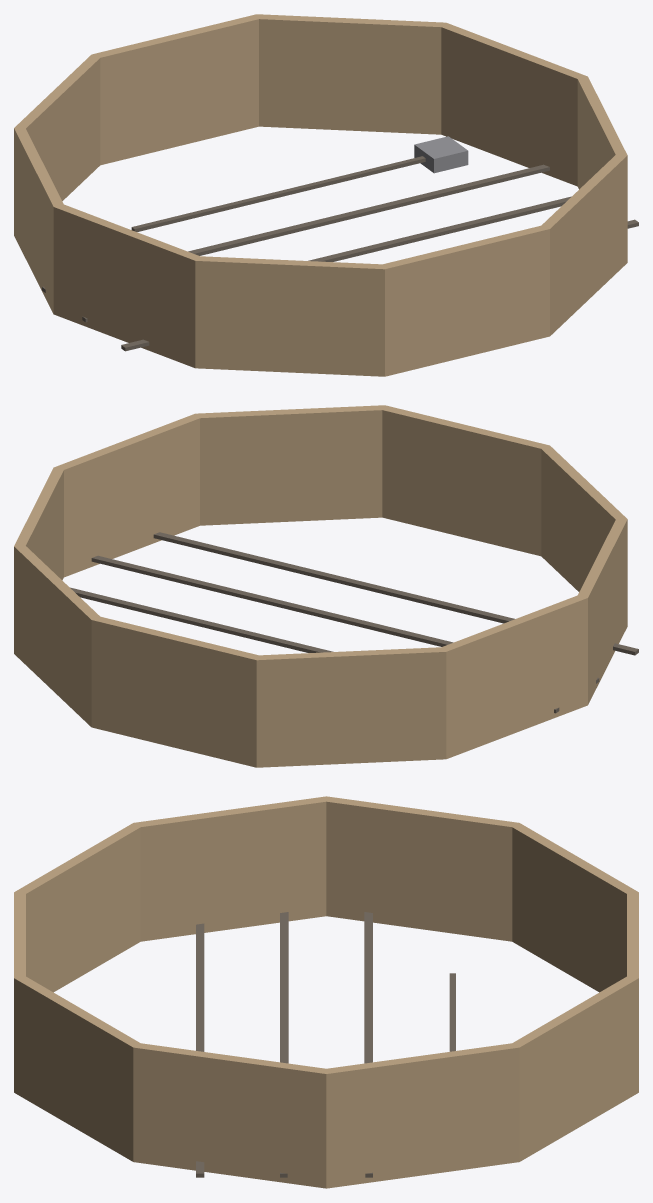
File: prop-sieve-frame-unfinished.fbx
3 views of the same model, one above another, from view 1: azimuth 30°, elevation 25°; view 2: azimuth 150°, elevation 25°; view 3: azimuth 270°, elevation 25° (orthographic). The views are drawn at different scales.
Visible parts, largest first — view 1: prop-sieve-frame-unfinished; view 2: prop-sieve-frame-unfinished; view 3: prop-sieve-frame-unfinished.
Part boxes in pixels (<box>): prop-sieve-frame-unfinished: <box>14,14,638,376</box>; prop-sieve-frame-unfinished: <box>14,405,638,767</box>; prop-sieve-frame-unfinished: <box>14,796,638,1188</box>.
Bounding box in the file's own units: 31.2 × 6 × 29.67.
